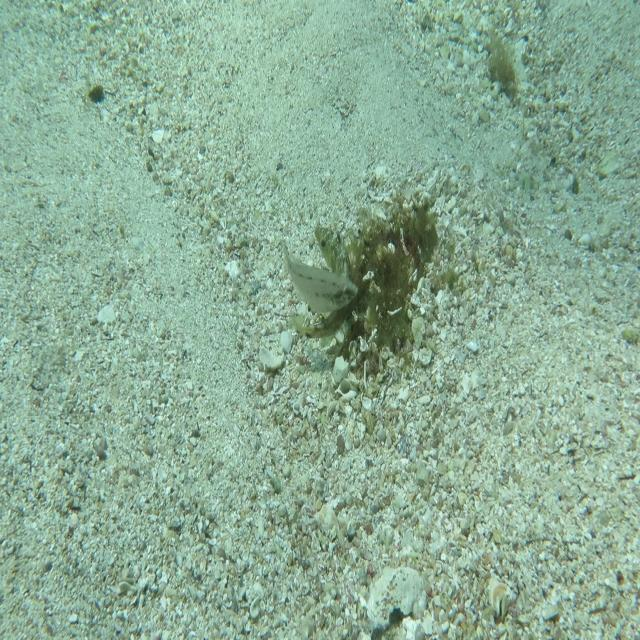BEND: (290, 217, 354, 345)
female: (283, 239, 359, 316)
nest: (310, 172, 464, 392)
